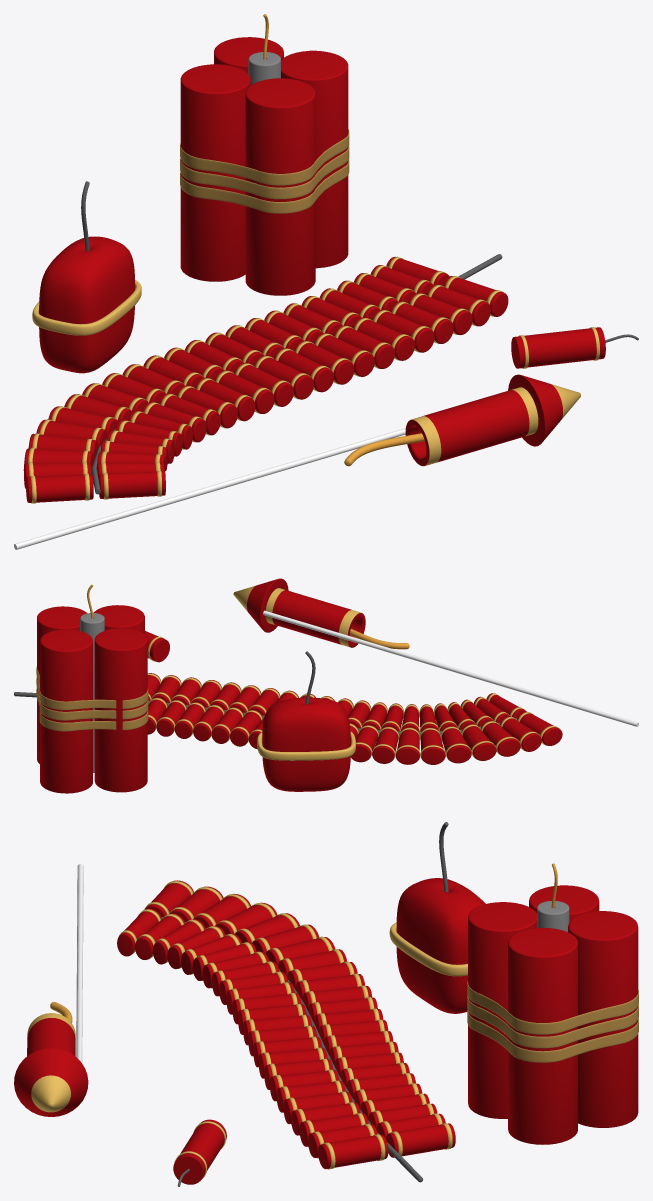
File: fire_crackers.glb
3 renders of one model, top to bottom at view 1: azimuth 30°, elevation 25°; view 2: azimuth 150°, elevation 25°; view 3: azimuth 270°, elevation 25°, orthographic. The views are drawn at different scales.
Parts seen in each view (by area): view 1: Cylinder.029_5, Cylinder.034_16, Cube.022_2, Cylinder.027_4, Cylinder.033_12, Cube.024_14, Cylinder.031_8, Cylinder.032_11, Cylinder.028_10, Cube.021_1, Cylinder.035_15, object 11; view 2: Cylinder.034_16, Cylinder.029_5, Cube.022_2, Cylinder.027_4, Cylinder.033_12, Cube.024_14, Cylinder.032_11, Cube.021_1, Cylinder.028_10, Cylinder.035_15, Cylinder.031_8, object 11; view 3: Cylinder.029_5, Cylinder.034_16, Cube.022_2, Cylinder.027_4, Cube.024_14, Cylinder.033_12, Cylinder.031_8, Cylinder.028_10, Cylinder.032_11, Cube.021_1, Cylinder.035_15, object 5.
Part boxes in pixels (x1=…): Cylinder.029_5: x1=23, y1=256, x2=508, y2=502; Cylinder.034_16: x1=180, y1=37, x2=348, y2=295; Cube.022_2: x1=39, y1=236, x2=134, y2=373; Cylinder.027_4: x1=28, y1=256, x2=503, y2=503; Cylinder.033_12: x1=405, y1=374, x2=562, y2=465; Cube.024_14: x1=180, y1=129, x2=349, y2=213; Cylinder.031_8: x1=511, y1=327, x2=605, y2=368; Cylinder.032_11: x1=14, y1=428, x2=405, y2=549; Cylinder.028_10: x1=408, y1=384, x2=580, y2=466; Cube.021_1: x1=32, y1=280, x2=141, y2=335; Cylinder.035_15: x1=248, y1=52, x2=280, y2=85; object 11: x1=344, y1=433, x2=424, y2=466; Cylinder.034_16: x1=37, y1=605, x2=147, y2=793; Cylinder.029_5: x1=147, y1=673, x2=562, y2=764; Cube.022_2: x1=262, y1=697, x2=350, y2=791; Cylinder.027_4: x1=147, y1=673, x2=560, y2=760; Cylinder.033_12: x1=247, y1=578, x2=365, y2=647; Cube.024_14: x1=36, y1=666, x2=148, y2=731; Cylinder.032_11: x1=263, y1=610, x2=638, y2=726; Cube.021_1: x1=257, y1=731, x2=355, y2=760; Cylinder.028_10: x1=233, y1=585, x2=363, y2=647; Cylinder.035_15: x1=80, y1=613, x2=104, y2=772; Cylinder.031_8: x1=145, y1=631, x2=169, y2=662; object 11: x1=349, y1=629, x2=409, y2=649; Cylinder.029_5: x1=117, y1=880, x2=455, y2=1169; Cylinder.034_16: x1=468, y1=885, x2=638, y2=1144; Cube.022_2: x1=396, y1=878, x2=485, y2=1013; Cylinder.027_4: x1=119, y1=881, x2=452, y2=1169; Cube.024_14: x1=467, y1=981, x2=638, y2=1062; Cylinder.033_12: x1=14, y1=1018, x2=88, y2=1116; Cylinder.031_8: x1=173, y1=1119, x2=226, y2=1184; Cylinder.028_10: x1=27, y1=1013, x2=75, y2=1112; Cylinder.032_11: x1=76, y1=864, x2=83, y2=1063; Cube.021_1: x1=389, y1=922, x2=467, y2=976; Cylinder.035_15: x1=537, y1=901, x2=569, y2=931; object 5: x1=161, y1=917, x2=423, y2=1182.
Bounding box in the file's own units: 1.99 × 0.7098 × 1.61.
